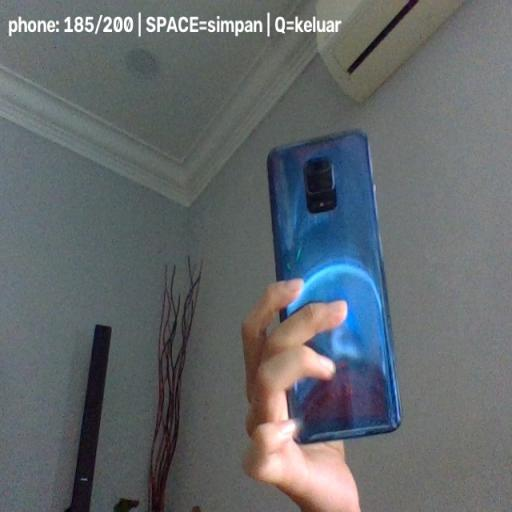Phone: (266, 129, 402, 445)
